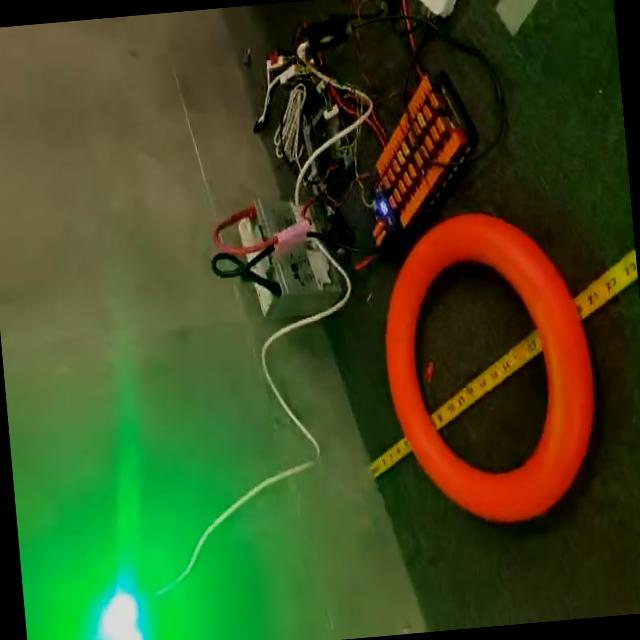note: (370, 202, 606, 532)
